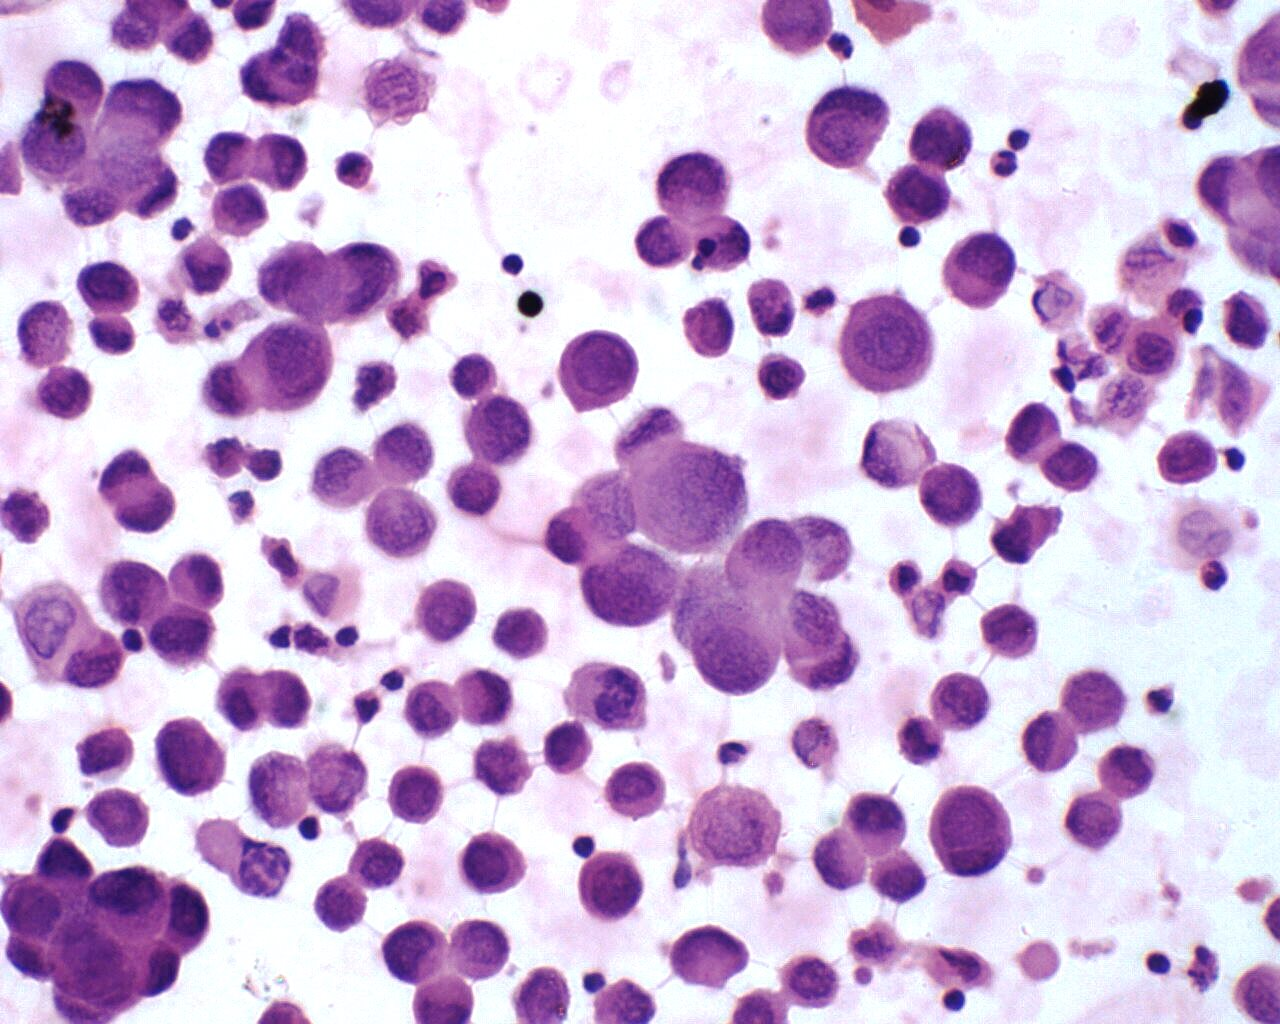ab: (836, 294, 939, 399), (927, 782, 1018, 879), (802, 82, 897, 172), (243, 319, 332, 415), (550, 327, 645, 413), (82, 865, 168, 947), (653, 148, 744, 225), (459, 388, 540, 466), (150, 714, 227, 797), (941, 228, 1017, 312), (360, 488, 437, 564), (461, 820, 532, 898), (576, 852, 648, 926), (600, 757, 678, 823), (1, 874, 70, 948), (916, 458, 986, 530), (143, 600, 216, 669), (82, 785, 156, 851), (383, 915, 447, 987), (909, 103, 976, 170), (416, 574, 480, 642), (782, 949, 847, 1013), (1063, 789, 1126, 854), (389, 762, 450, 829), (254, 132, 313, 197), (73, 260, 141, 318), (1156, 428, 1220, 488), (932, 671, 993, 734), (211, 178, 271, 241), (979, 602, 1043, 660), (682, 295, 736, 362), (1040, 439, 1101, 492)
lymph: (498, 248, 536, 285), (1145, 942, 1180, 983), (511, 286, 545, 321), (938, 986, 968, 1020)
neutro: (1194, 558, 1233, 597), (822, 27, 861, 63), (991, 146, 1021, 180)
